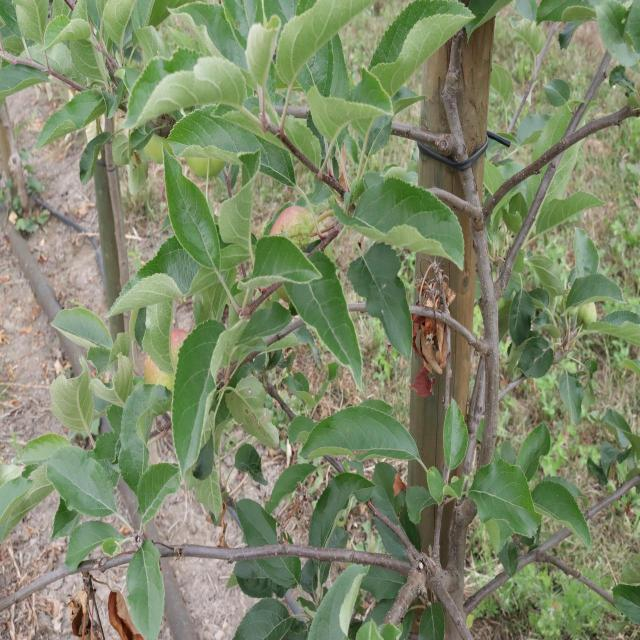-FireBlight-: (62, 577, 146, 640), (414, 274, 454, 395)
